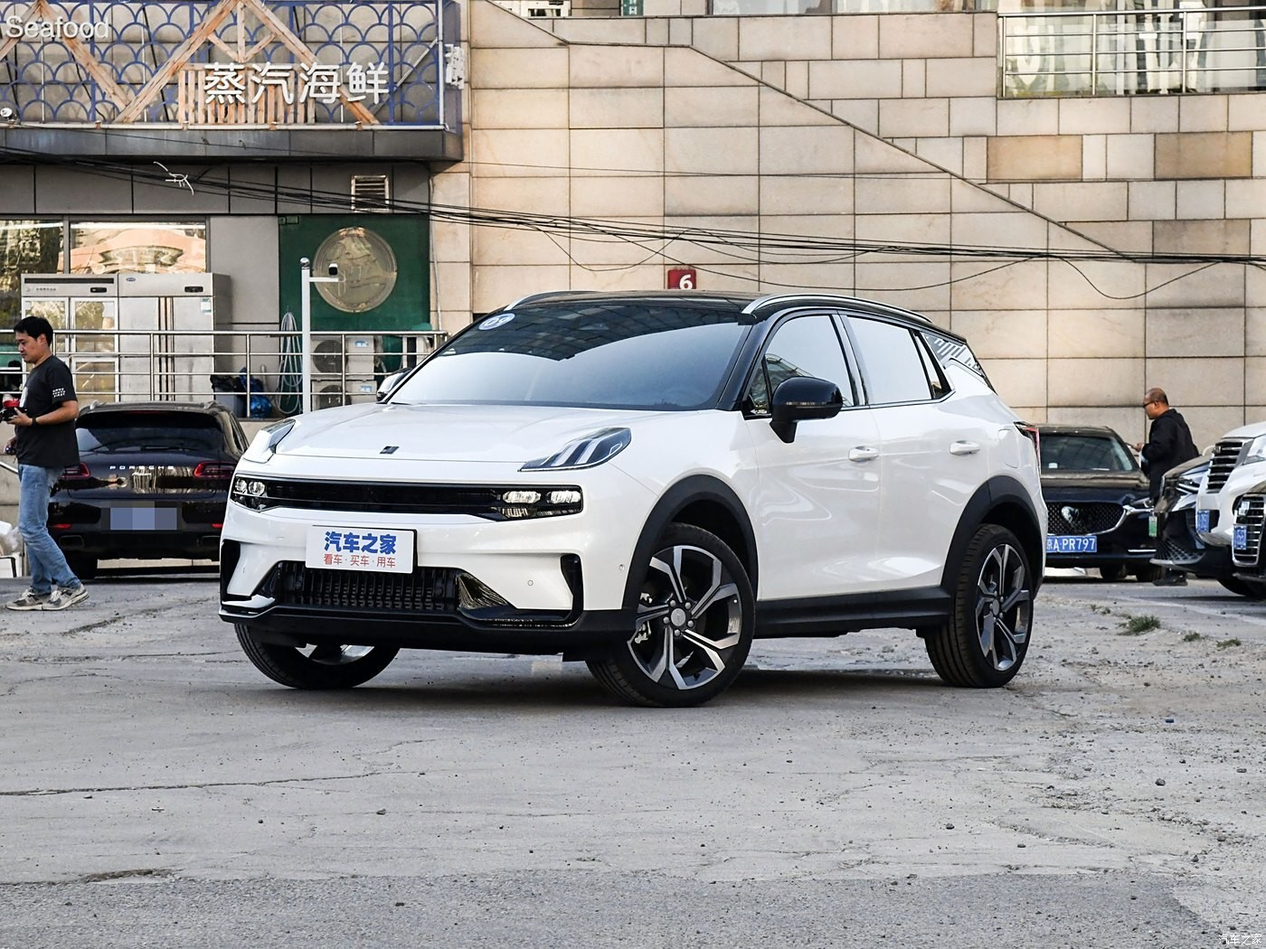LINK&CO: (380, 446, 400, 454)
